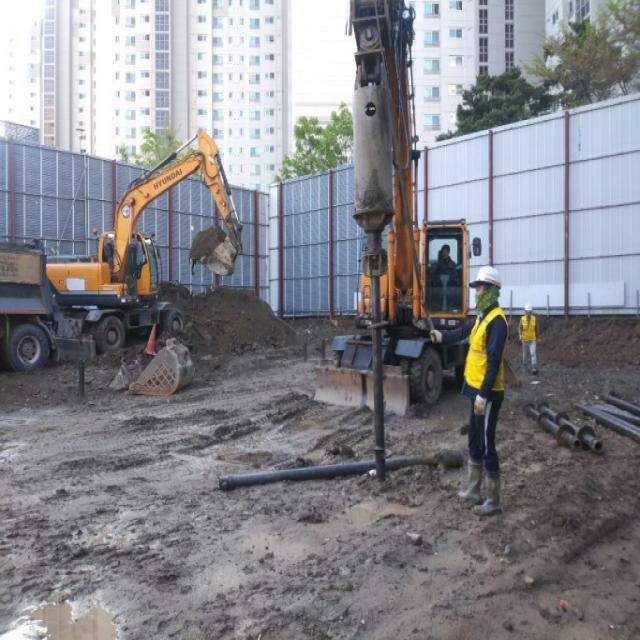excavator: (314, 0, 482, 417), (0, 128, 243, 374)
pile: (219, 449, 463, 492), (366, 321, 390, 480), (537, 403, 603, 453), (522, 404, 582, 451)
